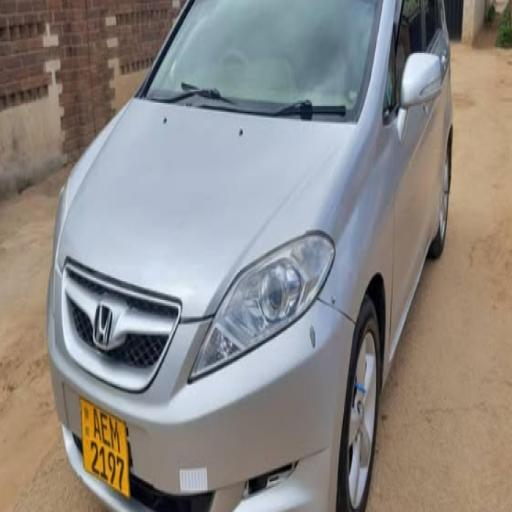number-plates: (78, 392, 125, 492)
